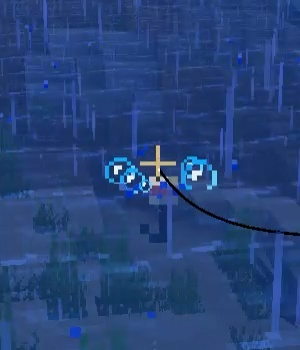up: (133, 168, 184, 245)
